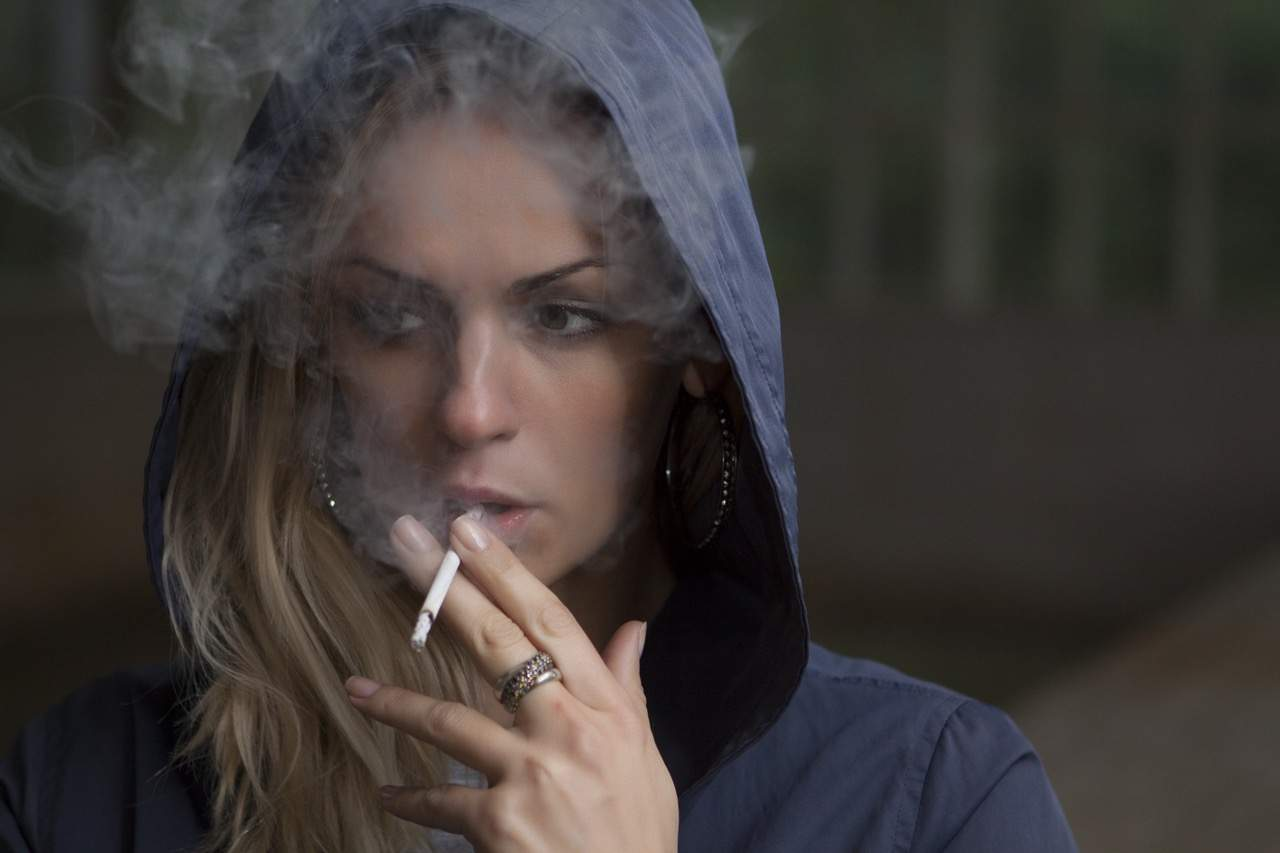cigarette: (402, 499, 487, 669)
